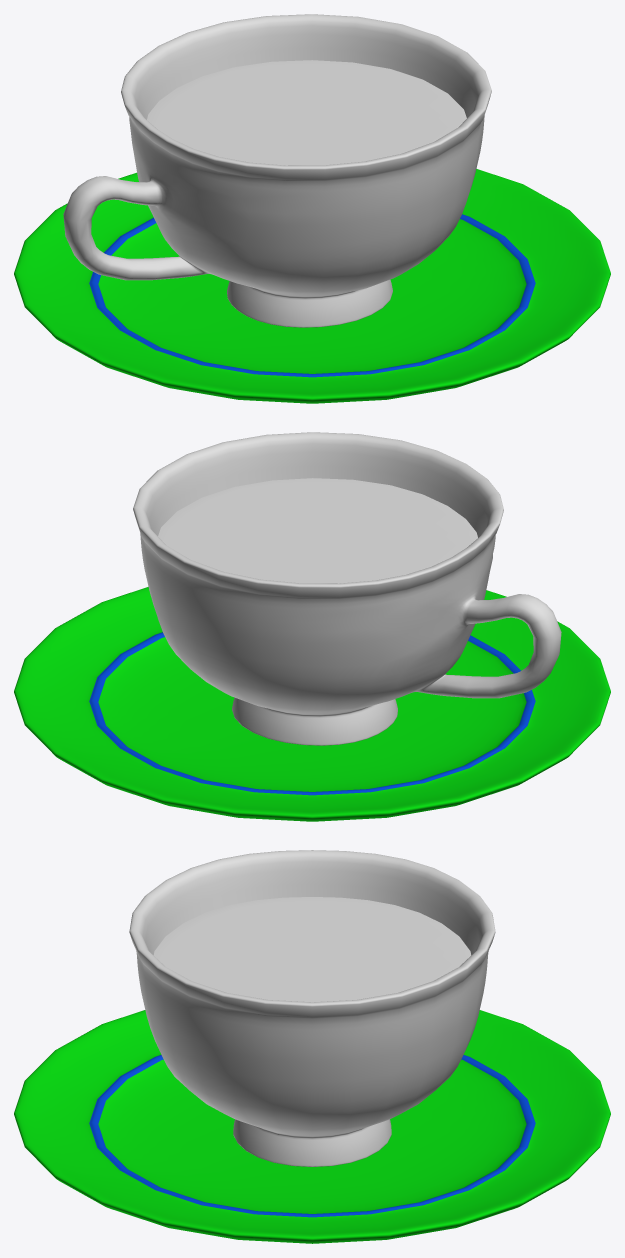
File: TeaCup_UV_Ready.fbx
The picture shows the model from 3 angles, top to bottom: view 1: azimuth 30°, elevation 25°; view 2: azimuth 150°, elevation 25°; view 3: azimuth 270°, elevation 25°; orthographic projection.
Visible parts, largest first — view 1: Dish, Cup, Liquid; view 2: Dish, Cup, Liquid; view 3: Dish, Cup, Liquid.
Boxes of the visible parts, x1,y1,x2,y2 form: Dish: (14,169,610,403); Cup: (63,14,491,327); Liquid: (147,60,466,165); Dish: (14,587,610,821); Cup: (133,432,561,745); Liquid: (158,478,477,583); Dish: (14,1010,610,1243); Cup: (129,850,495,1166); Liquid: (153,897,471,1002).
Bounding box in the file's own units: 7.7 × 7.73 × 3.18.
